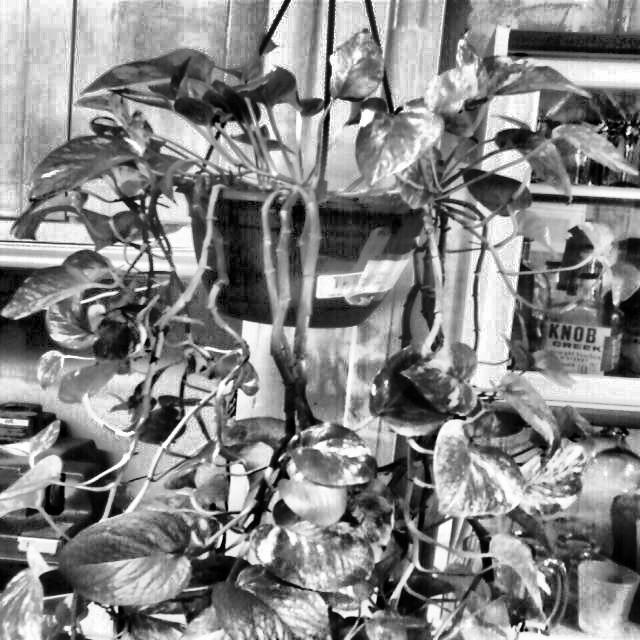plants: (28, 29, 601, 639), (114, 274, 274, 434), (425, 53, 606, 148), (355, 348, 513, 448), (324, 28, 396, 112)
